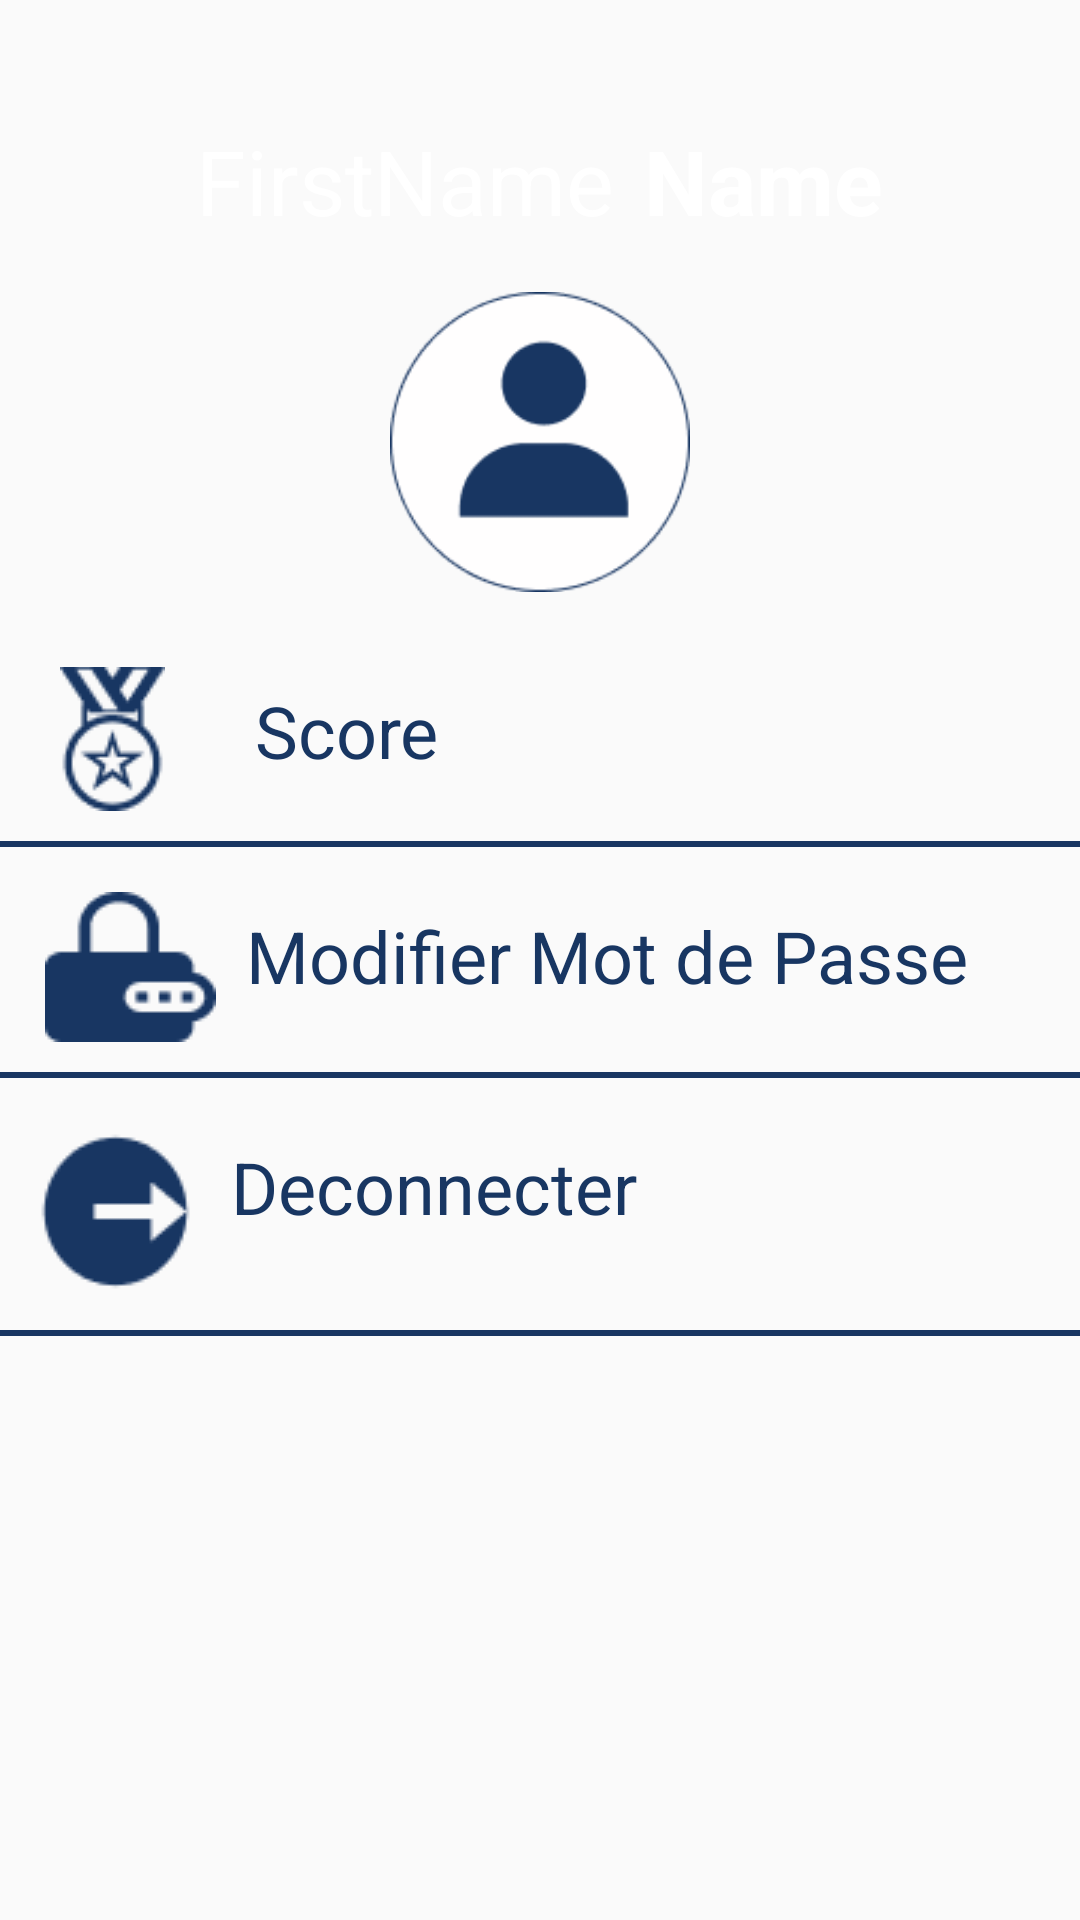

Icons on this 1080x1920 Android screen, each with its box as [x1, y1, x2, y2]:
iconesore: [60, 667, 165, 811]
lock: [45, 892, 216, 1042]
userprofil: [390, 292, 690, 592]
